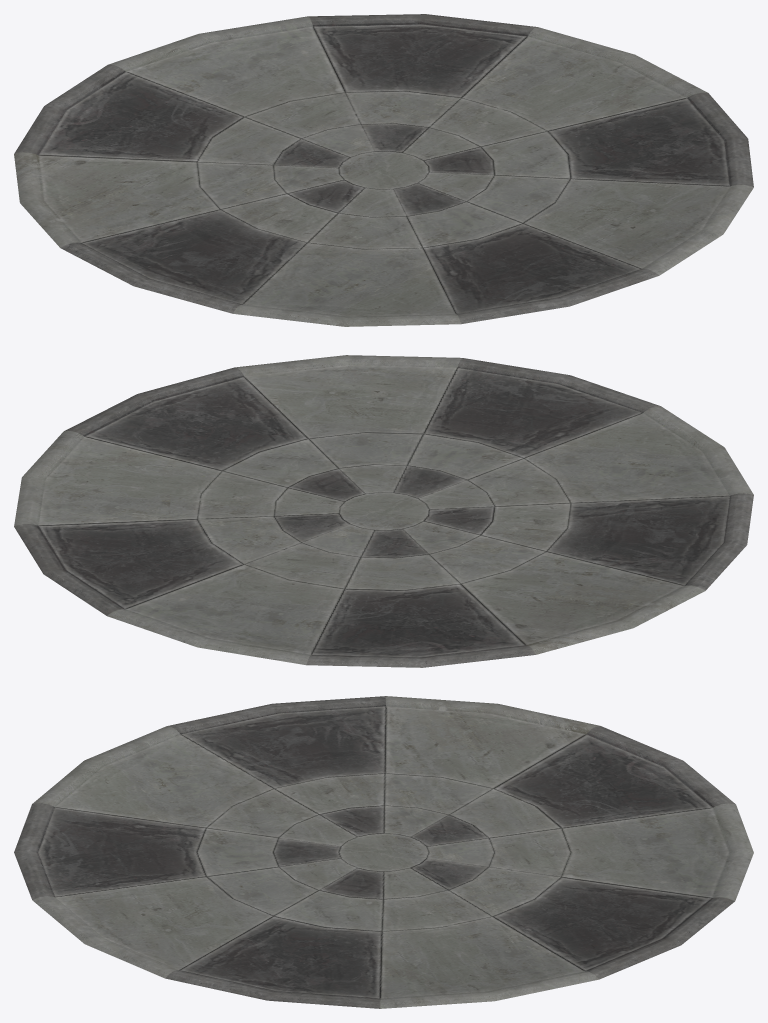
File: Ground2.fbx
3 views of the same model, one above another, from view 1: azimuth 30°, elevation 25°; view 2: azimuth 150°, elevation 25°; view 3: azimuth 270°, elevation 25° (orthographic).
Parts seen in each view (by area): view 1: Plane.003; view 2: Plane.003; view 3: Plane.003.
Boxes of the visible parts, x1,y1,x2,y2 form: Plane.003: (14,14,753,326); Plane.003: (14,355,753,667); Plane.003: (14,696,753,1008).
Bounding box in the file's own units: 6318 × 19.69 × 6315.
